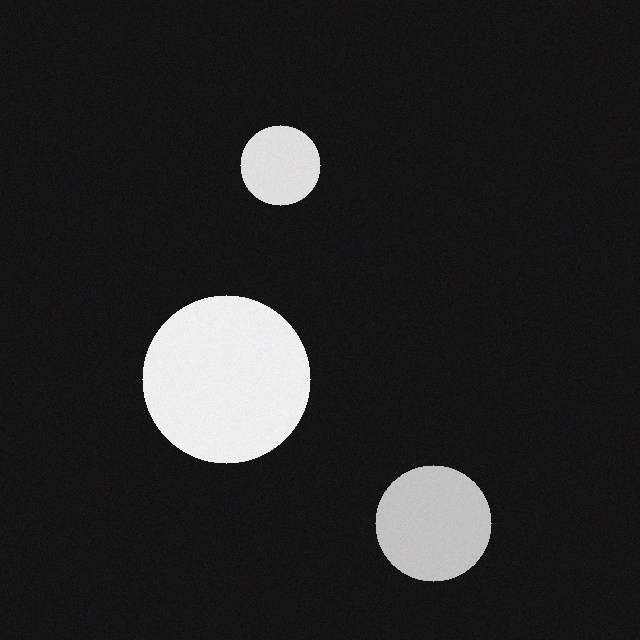circle: (156, 291, 324, 459), (389, 461, 505, 577), (254, 121, 334, 201)
